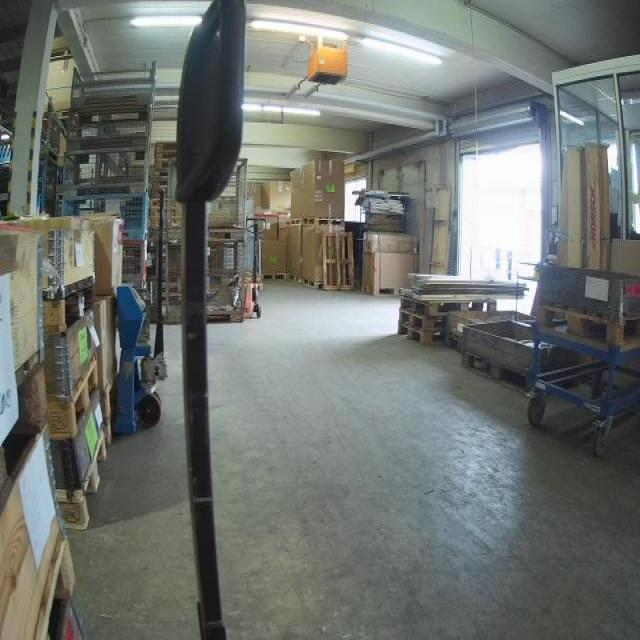pallet: (537, 302, 639, 355), (56, 428, 108, 528), (49, 357, 101, 439), (42, 275, 98, 333), (460, 349, 530, 394), (399, 296, 498, 319), (319, 231, 356, 292), (396, 321, 447, 345), (397, 310, 453, 331), (362, 283, 403, 297), (302, 215, 346, 226), (148, 159, 181, 171), (303, 277, 325, 289), (260, 272, 287, 281), (148, 136, 178, 144), (151, 144, 178, 152), (151, 152, 181, 159), (288, 217, 303, 226), (289, 274, 303, 283)
pallet_truck: (149, 1, 265, 637), (111, 184, 173, 453), (234, 211, 269, 325)
stillage: (156, 233, 252, 326), (160, 145, 252, 230), (59, 148, 154, 192), (67, 105, 156, 151), (72, 57, 154, 106), (59, 192, 154, 234), (30, 158, 60, 217), (128, 289, 156, 347), (119, 239, 149, 291), (40, 115, 70, 151)
